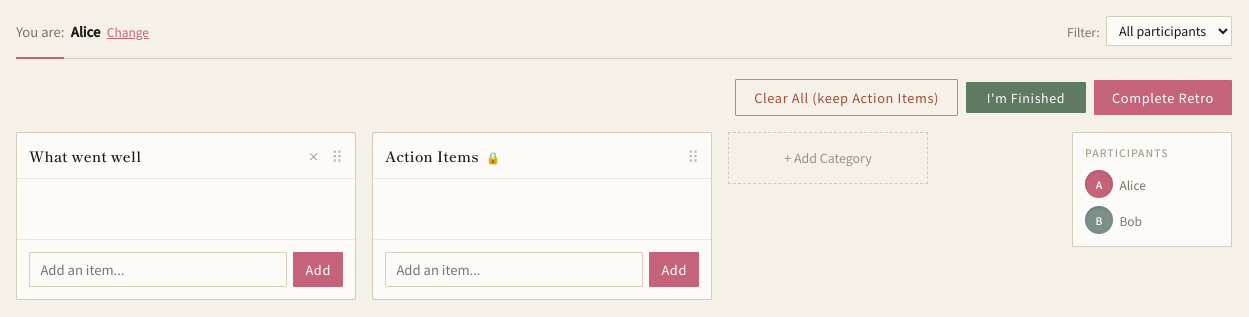
Test: RetroBoard — active board › clicking Change clears sessionStorage and shows participant select
What coordinates should you click on to do the following:
click the button "Change"
I would click on:
 (128, 31)
Its box is [107, 22, 149, 40].
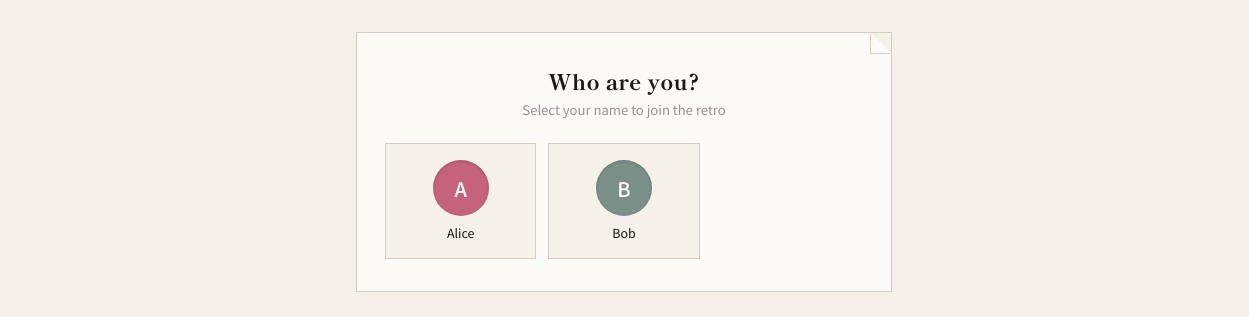
Now the heading "Who are you?" is shown, box [548, 65, 700, 96]
